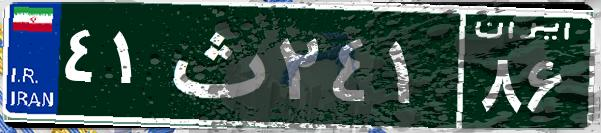1: (385, 28, 445, 110), (110, 28, 158, 105)
2: (273, 28, 330, 110)
4: (330, 28, 385, 110), (57, 26, 110, 107)
6: (525, 38, 570, 115)
8: (475, 38, 525, 113)
ث: (158, 15, 273, 115)
